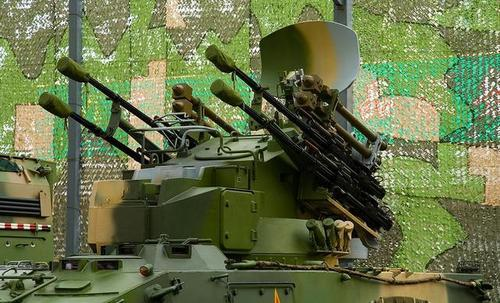MIL_SPG: (55, 22, 424, 302)
